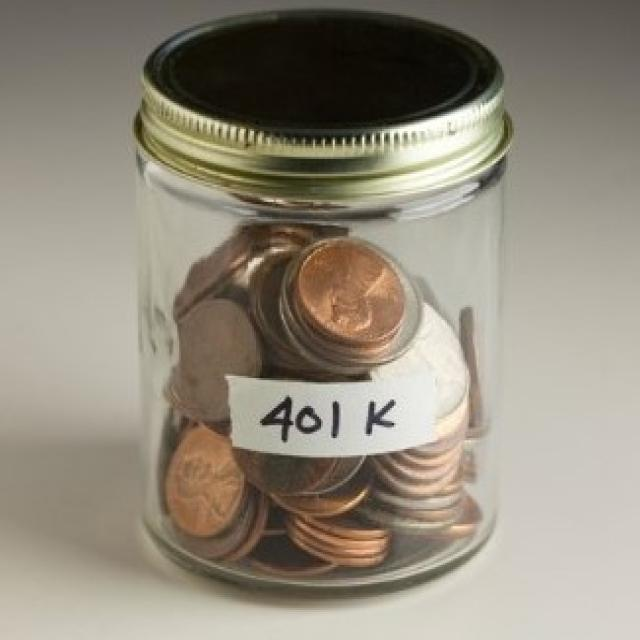electronic: (136, 9, 515, 598)
